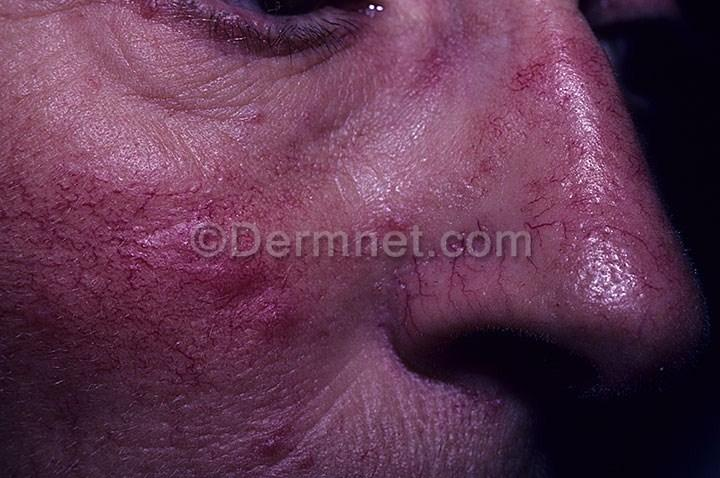Acne: (176, 234, 255, 306), (151, 246, 243, 291), (231, 298, 291, 352)
